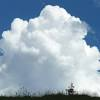sky: (2, 1, 100, 92)
